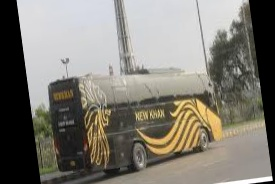bus: (45, 56, 232, 181)
